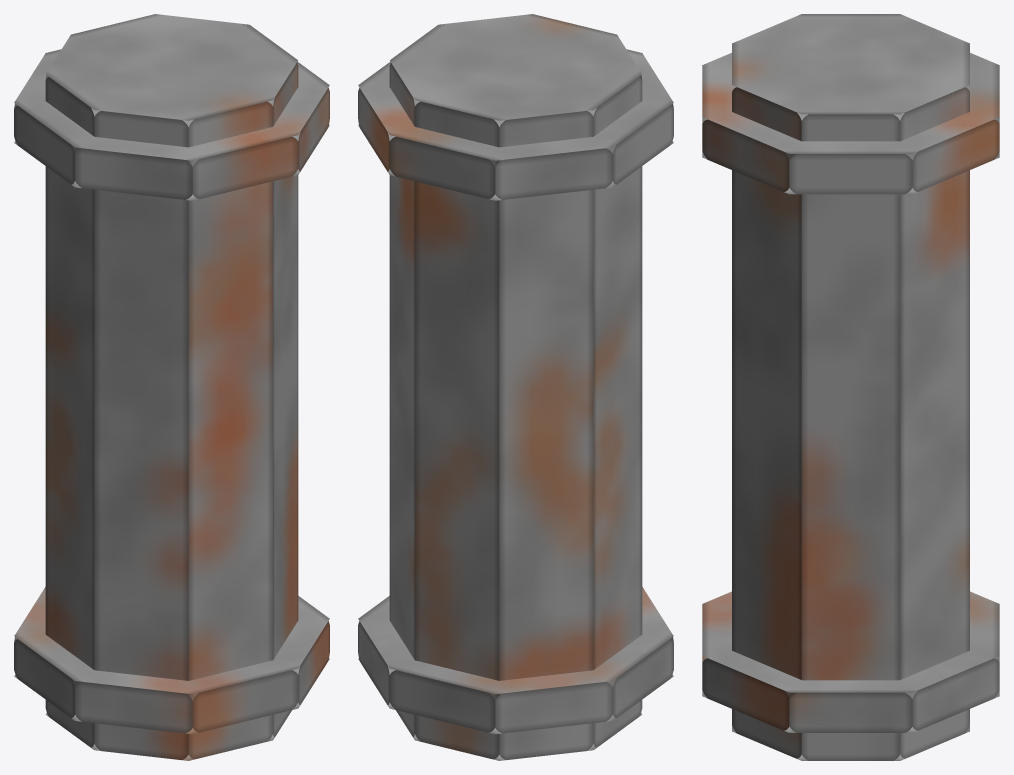
The model's file is pipeStraight.obj.
The picture shows the model from 3 angles, left to right: view 1: azimuth 30°, elevation 25°; view 2: azimuth 150°, elevation 25°; view 3: azimuth 270°, elevation 25°; orthographic projection.
Visible parts, largest first — view 1: cylinder; view 2: cylinder; view 3: cylinder.
Part boxes in pixels (x1,y1,x2,y2): cylinder: [14, 14, 329, 760]; cylinder: [358, 14, 673, 760]; cylinder: [702, 14, 999, 760].
Bounding box in the file's own units: 1.25 × 3 × 1.25.
